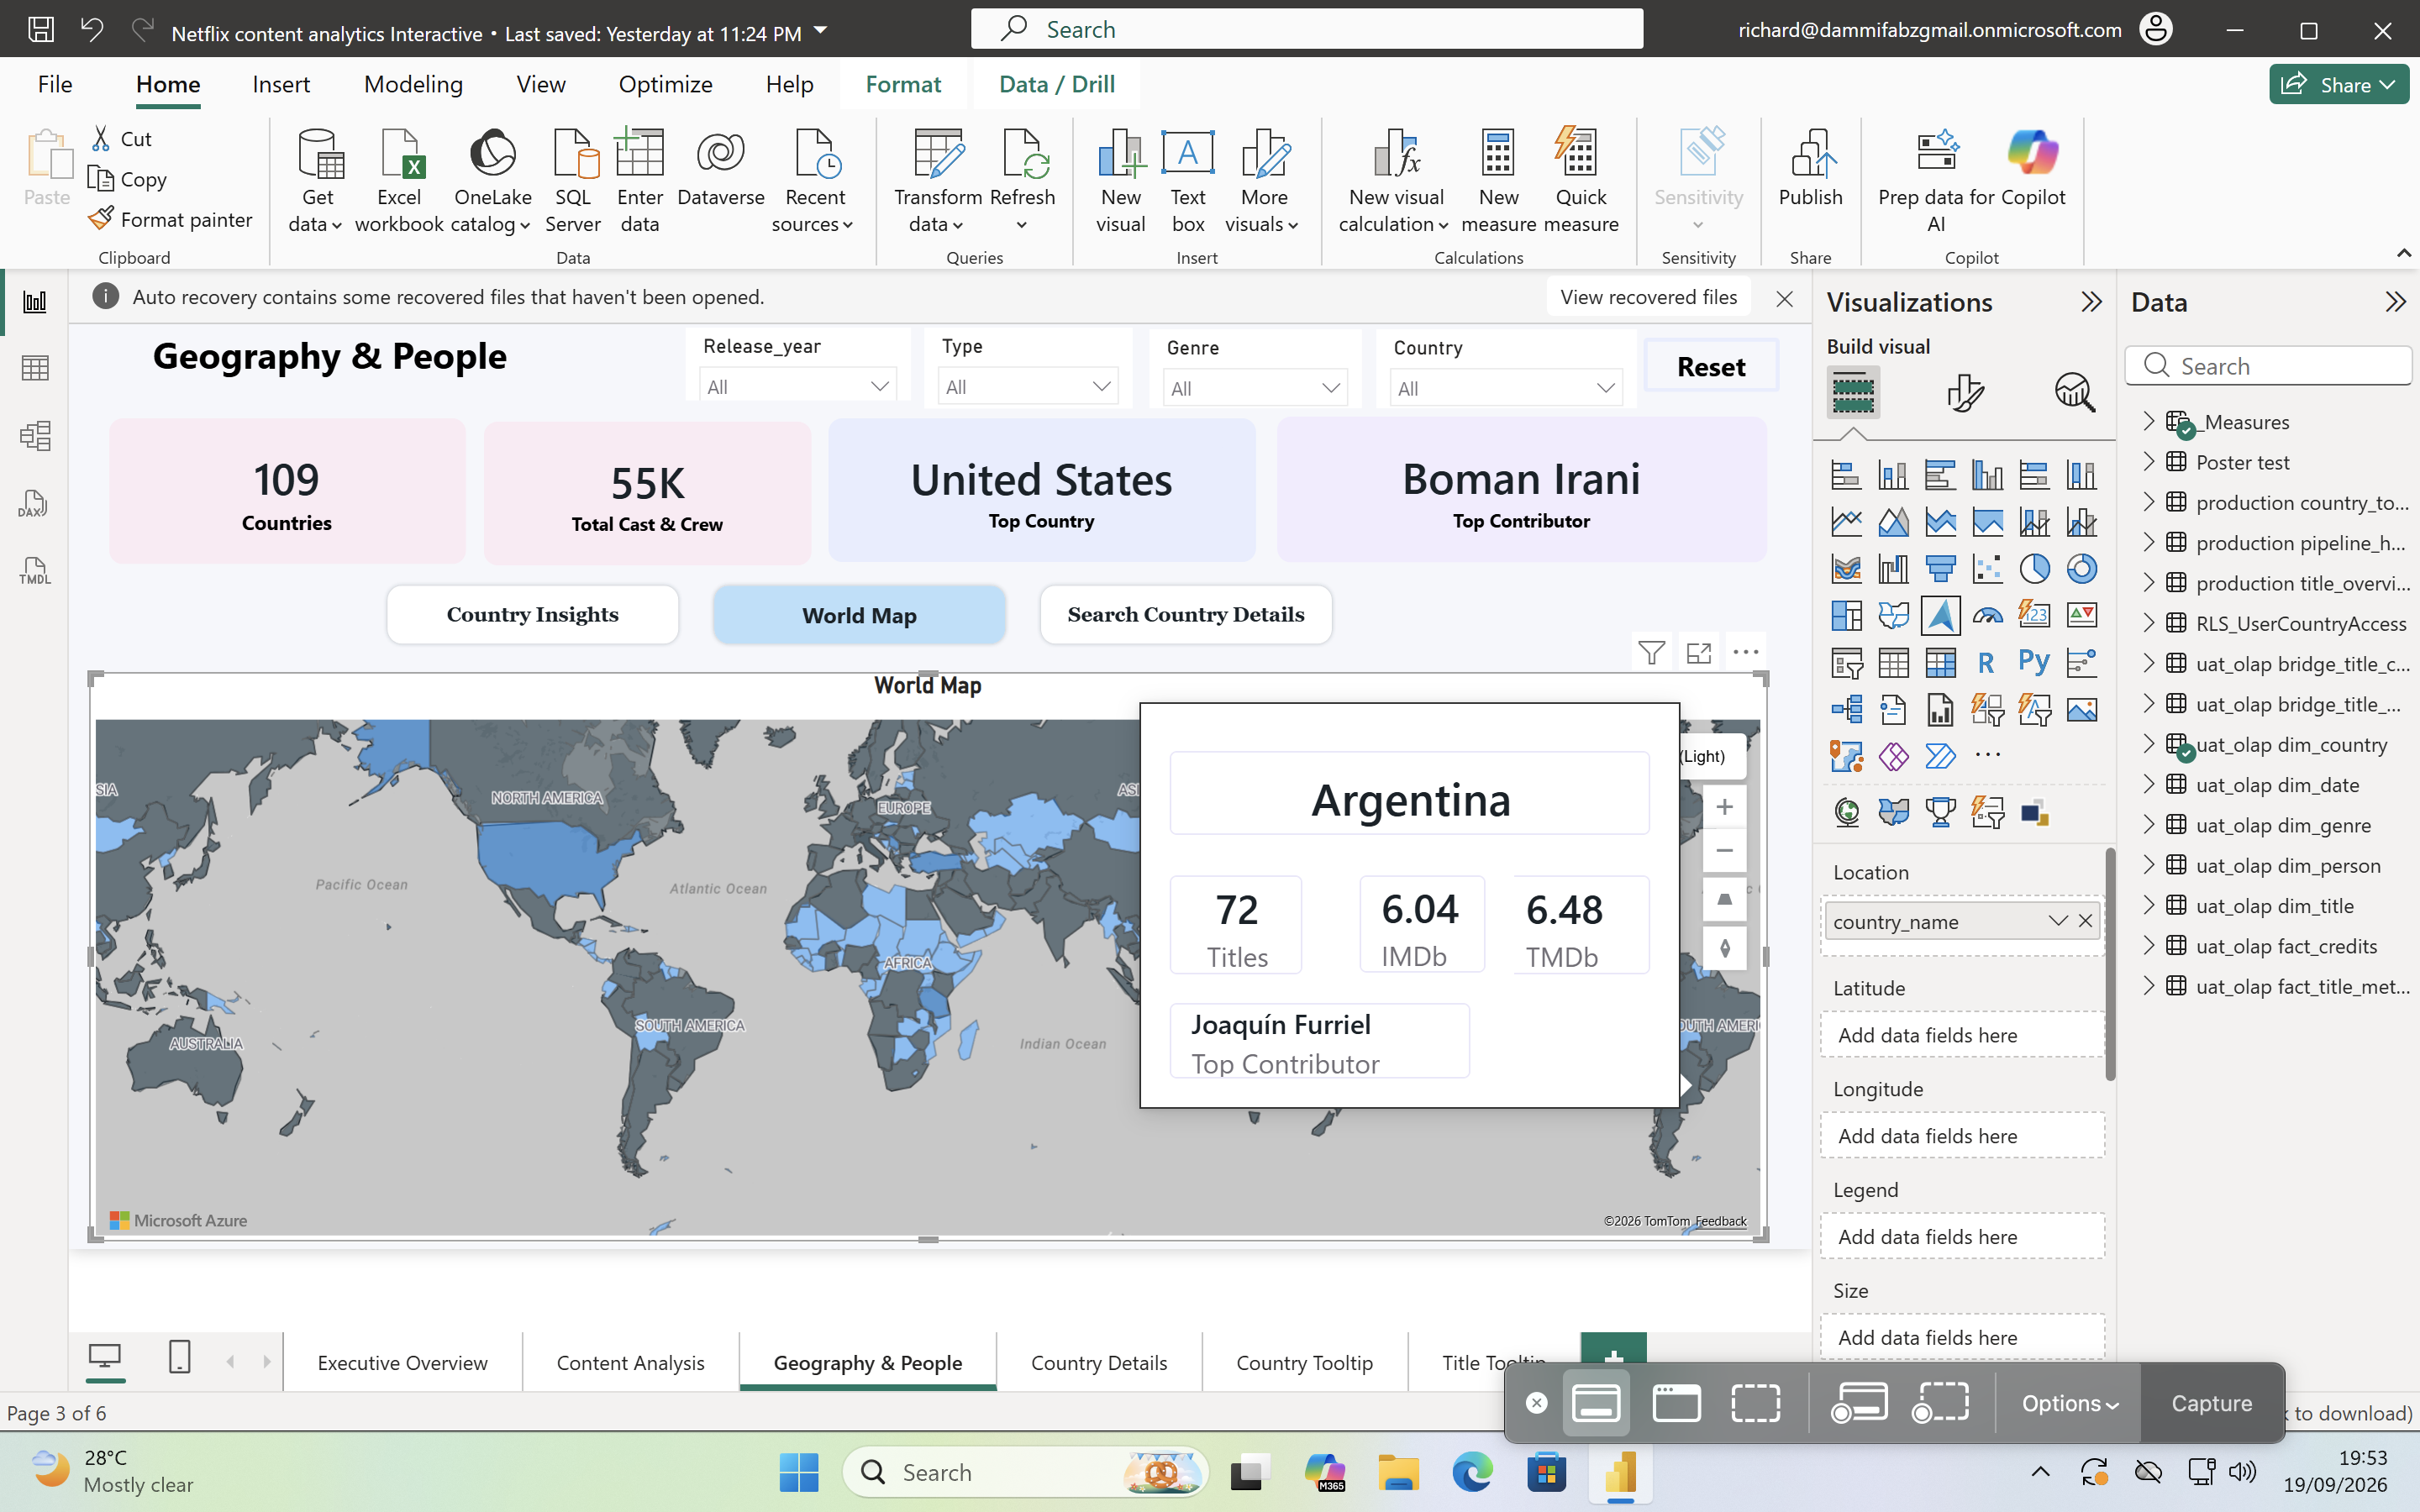

This screenshot's page, from the dashboard's own definition file:
{"tool":"powerbi","page":{"name":"Geography & People","canvas":[1280,720],"ordinal":2},"visuals":[{"type":"slicer","fields":{"Values":["uat_olap dim_title.release_year"]},"box":[453.2,42.9,165.4,53.6],"z":0},{"type":"slicer","fields":{"Values":["uat_olap dim_title.type"]},"box":[627.8,42.9,153.1,59.7],"z":1000},{"type":"slicer","title":"hh","fields":{"Values":["uat_olap dim_genre.name"]},"box":[793.1,44.4,156.2,58.2],"z":2000},{"type":"slicer","fields":{"Values":["uat_olap dim_country.name"]},"box":[960,44.4,191.4,58.2],"z":3000},{"type":"actionButton","box":[1156.8,51.1,100,40],"z":4000},{"type":"textbox","box":[56.7,39.8,287.8,50.5],"z":5000},{"type":"cardVisual","fields":{"Data":["_Measures.Countries"]},"box":[29.1,110.2,261.8,107.2],"z":6000},{"type":"cardVisual","fields":{"Data":["_Measures.Top Country"]},"box":[557.3,110.2,313.9,105.6],"z":7000},{"type":"cardVisual","fields":{"Data":["_Measures.Top Contributor"]},"box":[888,108.7,359.8,107.2],"z":8000},{"type":"cardVisual","fields":{"Data":["_Measures.Total Cast & Crew"]},"box":[304.7,111.8,240.4,105.6],"z":9000},{"type":"azureMap","title":"World Map","fields":{"Category":["uat_olap dim_country.country_name"]},"box":[15.2,295.8,1232.6,419.1],"z":13000},{"type":"bookmarkNavigator","box":[231.3,229.5,701.6,49.3],"z":14000}]}

Visuals, with their boxes on the page's 1280x720 design canvas (x1, y1, x2, y2). These are canvas units, not pixel positions in the 2420x1512 screenshot, which may show the page scaled, cropped or inside an application window:
slicer - uat_olap dim_title.release_year: crop(453, 43, 619, 96)
slicer - uat_olap dim_title.type: crop(628, 43, 781, 103)
"hh" slicer: crop(793, 44, 949, 103)
slicer - uat_olap dim_country.name: crop(960, 44, 1151, 103)
actionButton: crop(1157, 51, 1257, 91)
textbox: crop(57, 40, 344, 90)
cardVisual - _Measures.Countries: crop(29, 110, 291, 217)
cardVisual - _Measures.Top Country: crop(557, 110, 871, 216)
cardVisual - _Measures.Top Contributor: crop(888, 109, 1248, 216)
cardVisual - _Measures.Total Cast & Crew: crop(305, 112, 545, 217)
"World Map" azureMap: crop(15, 296, 1248, 715)
bookmarkNavigator: crop(231, 230, 933, 279)
